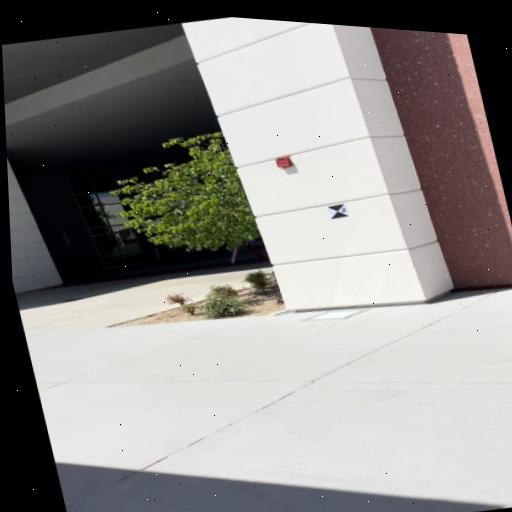target2: (328, 204, 349, 219)
